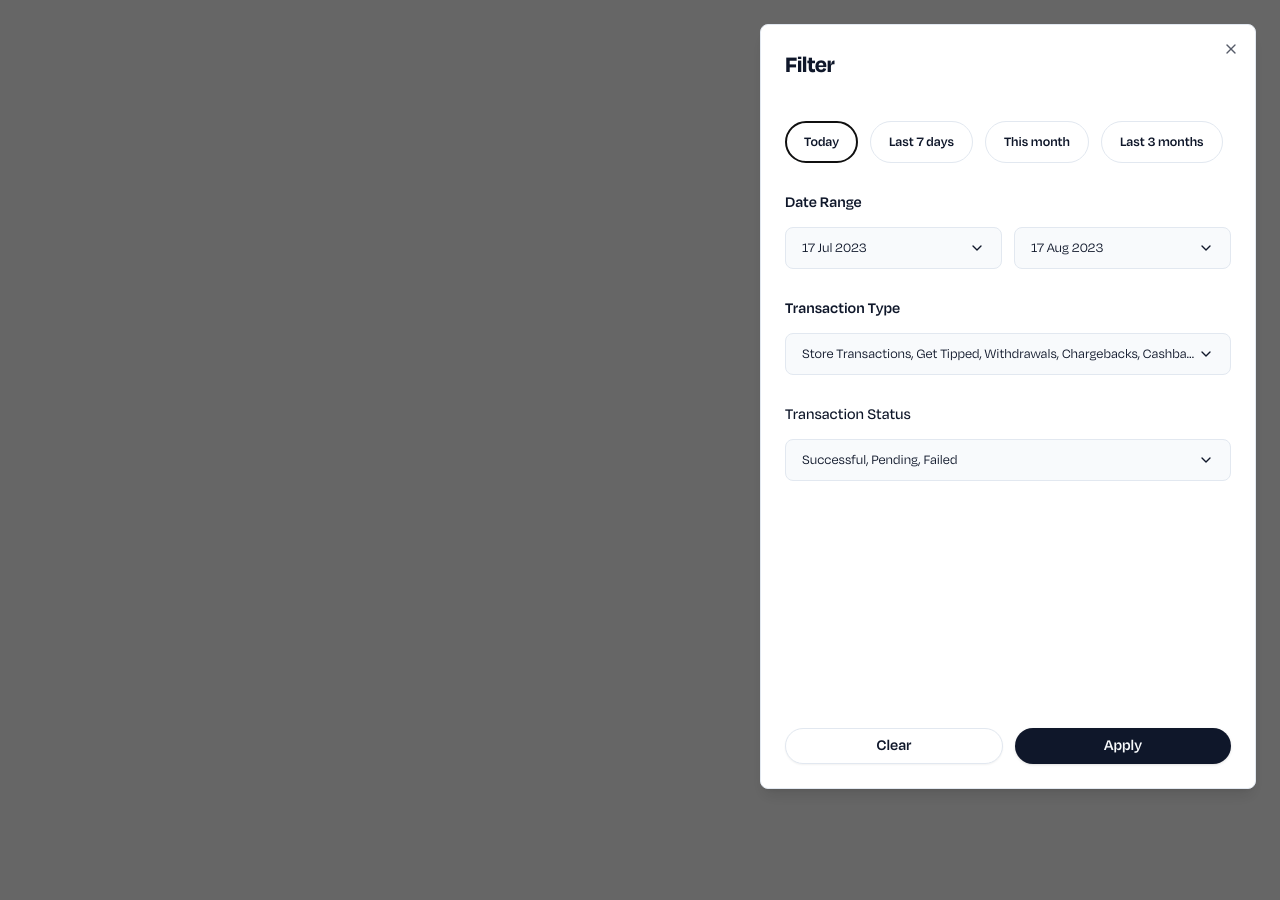
it: Clear button resets filters
Click the button "Clear" at (894, 746), box [785,728,1003,764]
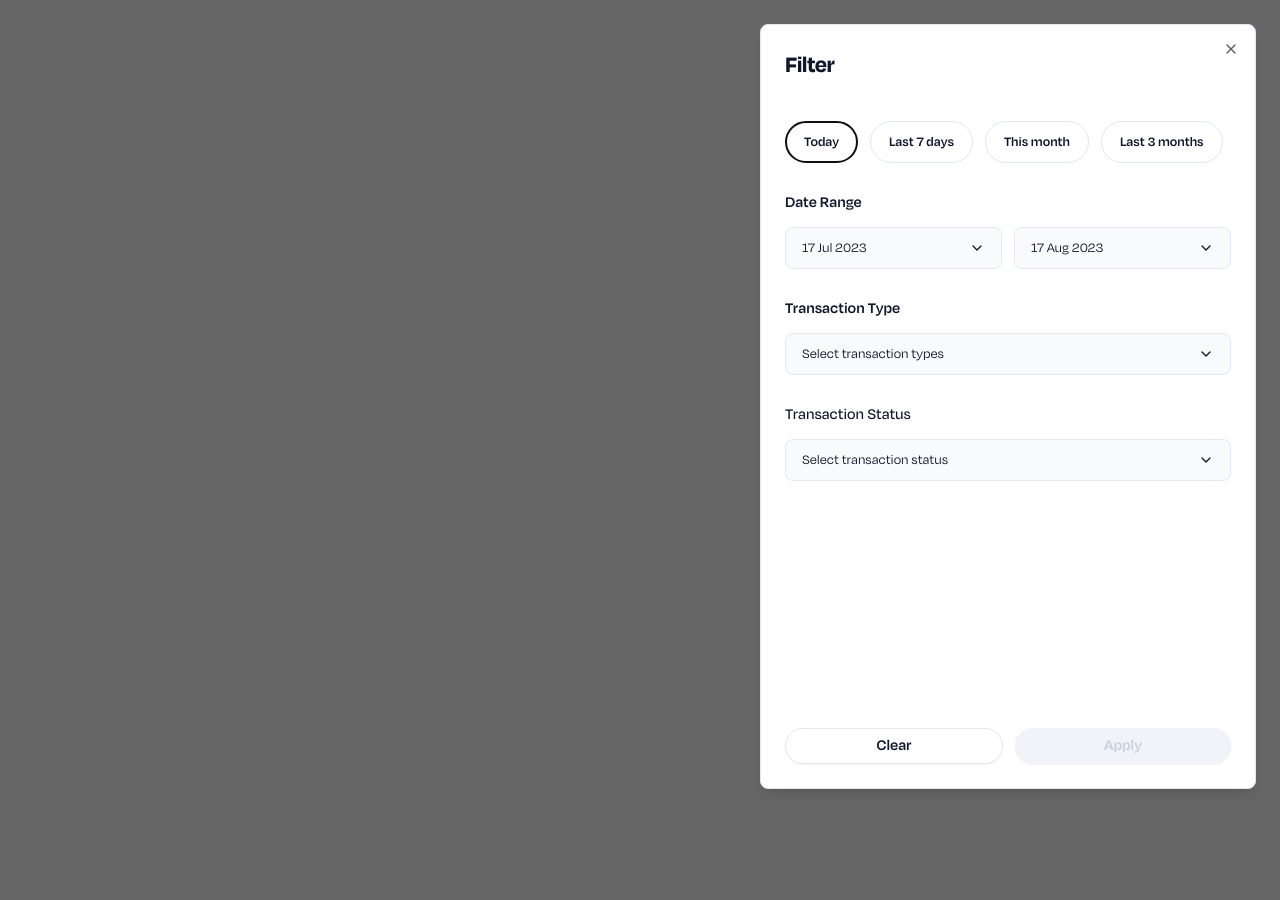
// After clearing, the button text should change to "Select transaction types"
Click the button "Select transaction types" at (873, 354), box [785,333,1231,375]
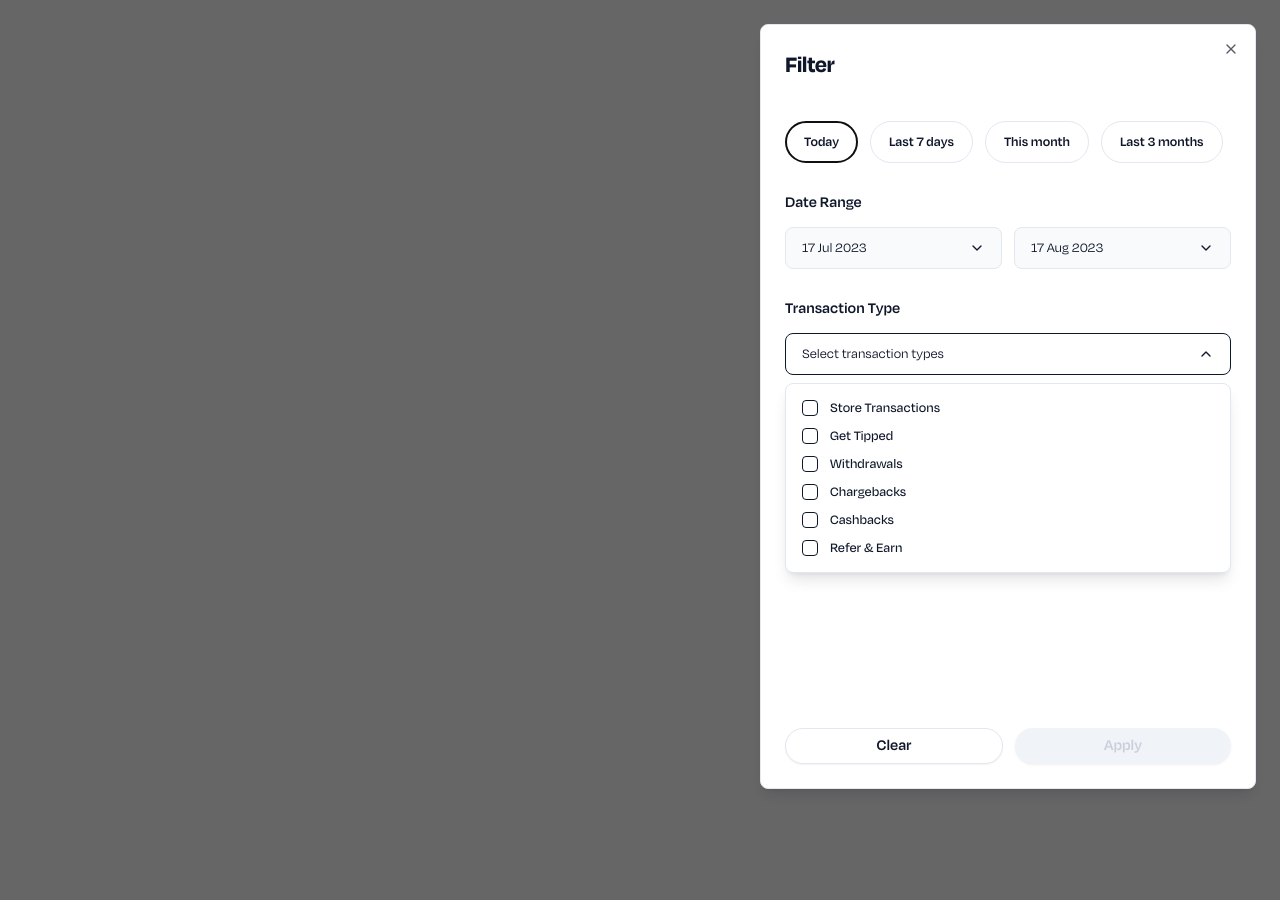
Expected: the checkbox named "Store Transactions" next to "Store Transactions" is not checked, [802,400,818,416]
